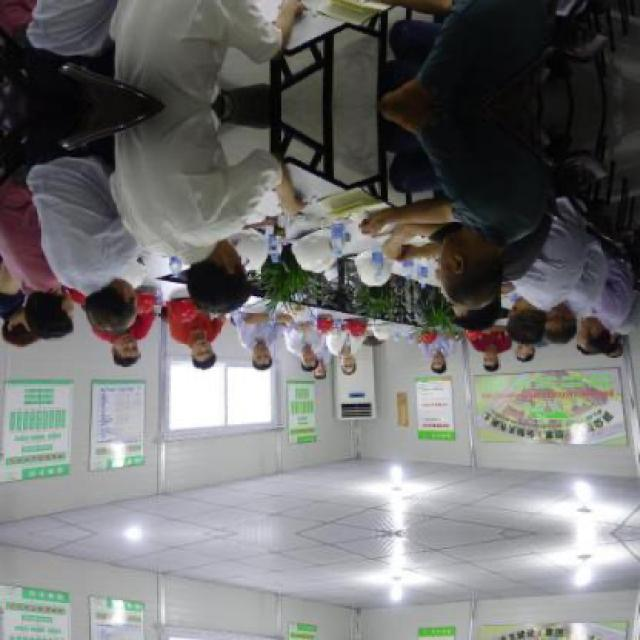sin casco: (149, 210, 276, 326), (408, 209, 536, 310), (70, 258, 144, 341), (432, 278, 528, 338), (520, 296, 594, 362), (487, 296, 563, 358), (174, 322, 235, 389), (0, 290, 68, 348), (102, 312, 160, 371), (314, 345, 373, 387), (247, 334, 276, 379)
